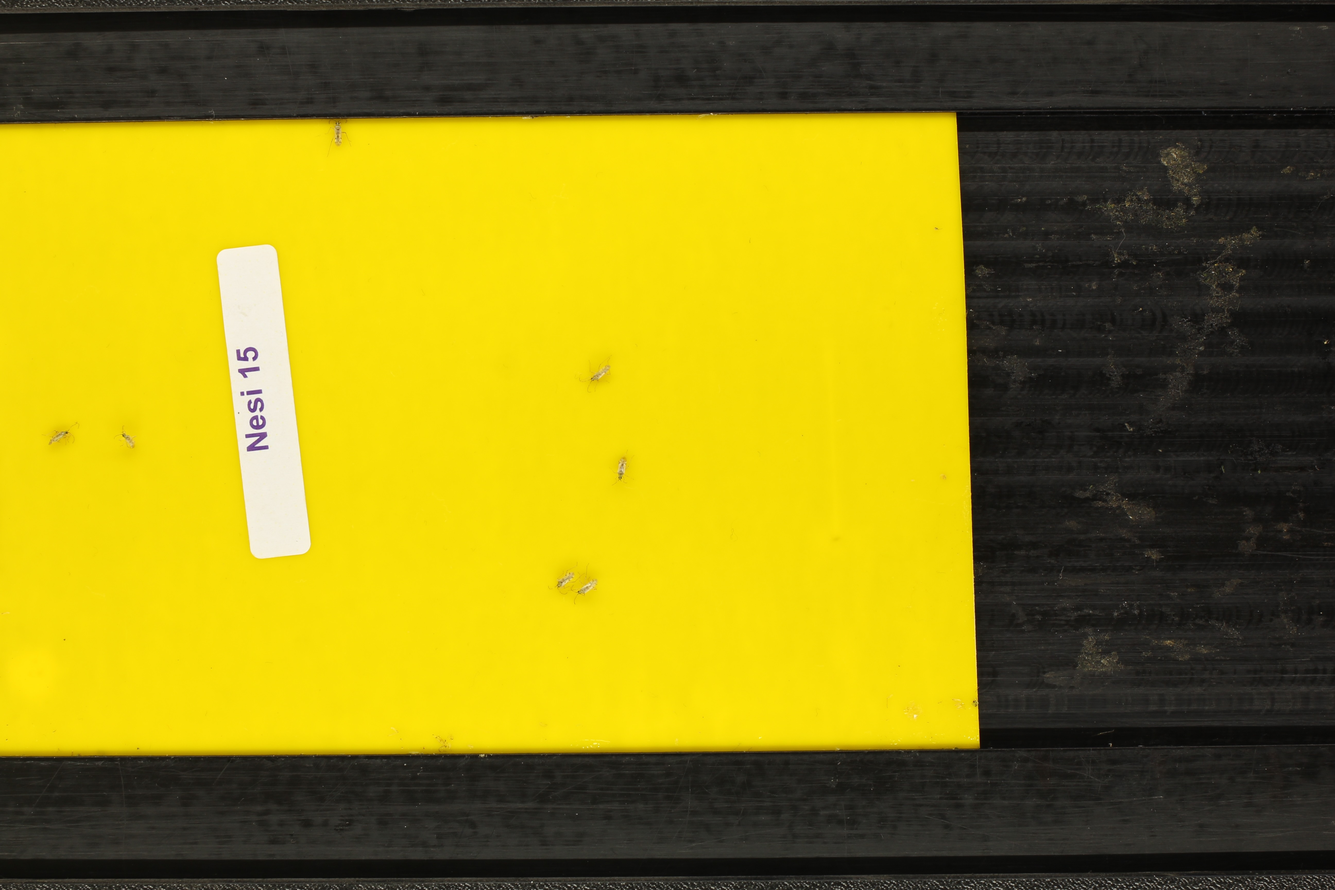NC: (580, 356, 617, 392), (610, 450, 637, 488), (44, 423, 80, 451), (327, 122, 354, 158), (114, 422, 142, 451), (577, 577, 606, 604), (552, 566, 577, 590)
